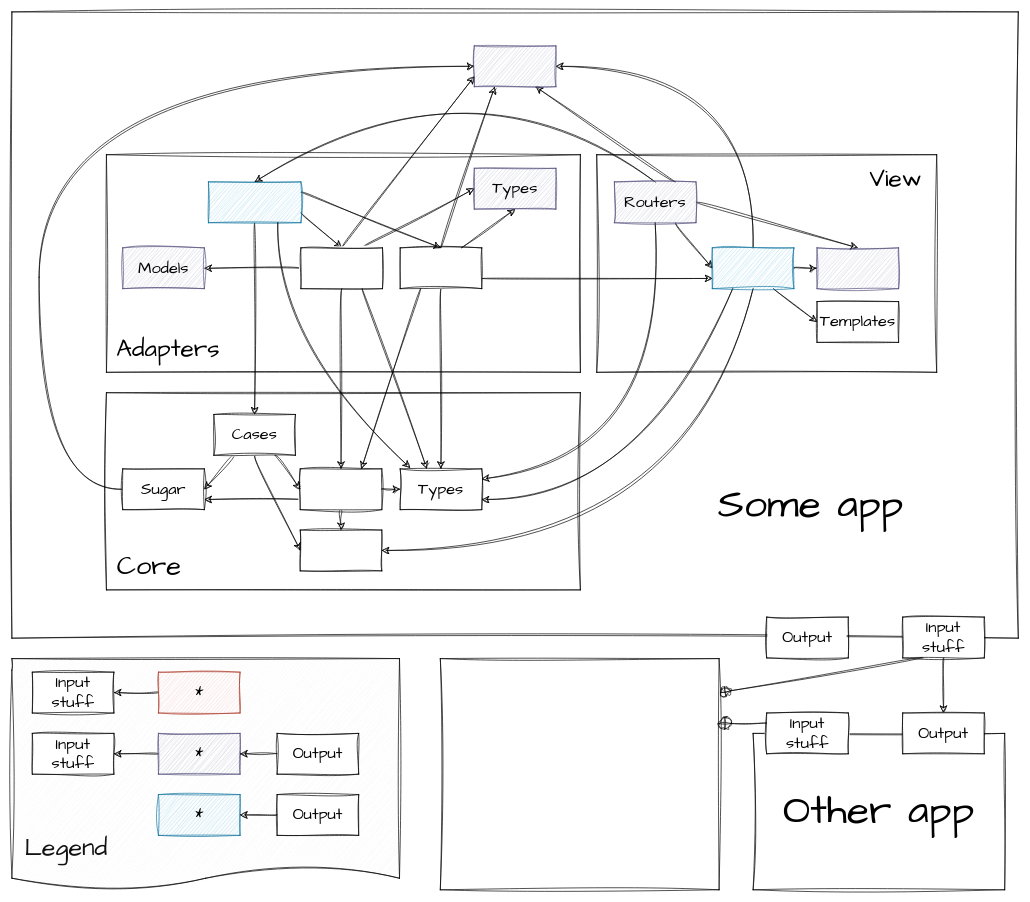
This 1030x902 diagram has some shape labels left out. The centre of each missing label's shape, as x and y in pixels:
"Controllers" goes at point 254,202.
"Errors" goes at point 341,550.
"Forms" goes at point 857,268.
"Lib" goes at point 515,66.
"Repos" goes at point 341,268.
"Rules" goes at point 341,489.
"Services" goes at point 441,268.
"Shared app" goes at point 579,774.
"UI" goes at point 753,268.
